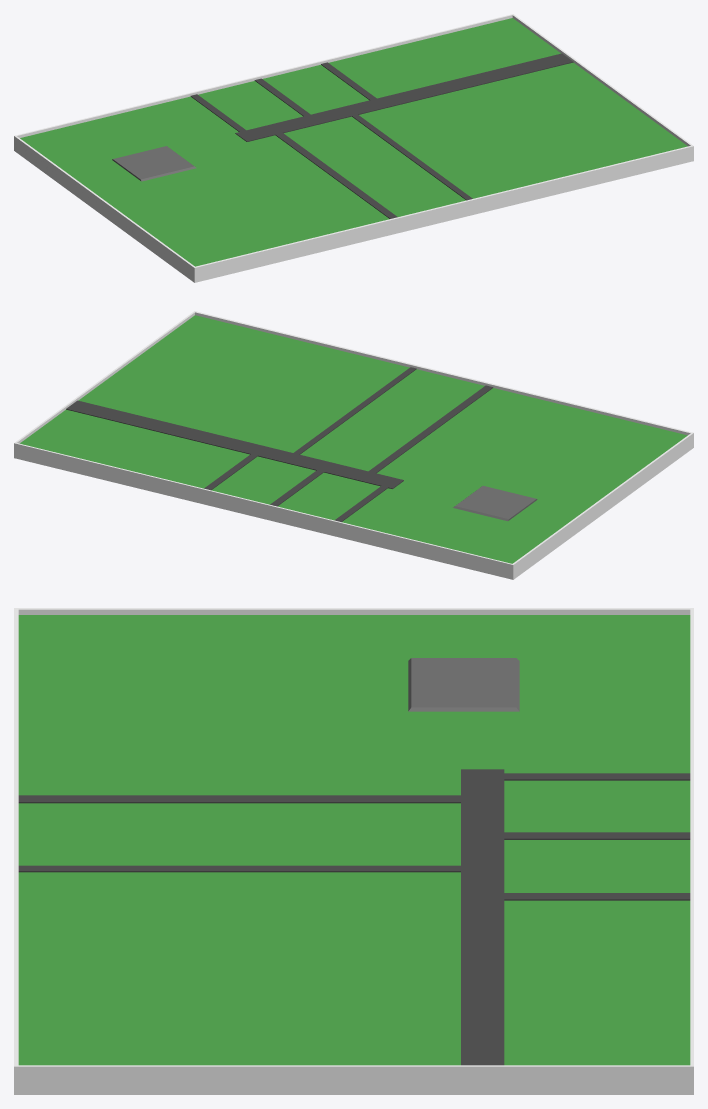
Rendered from road.glb.
3 views of the same model, one above another, from view 1: azimuth 30°, elevation 25°; view 2: azimuth 150°, elevation 25°; view 3: azimuth 270°, elevation 25° (orthographic). The views are drawn at different scales.
Parts seen in each view (by area): view 1: Дорога; view 2: Дорога; view 3: Дорога.
Boxes of the visible parts, x1,y1,x2,y2 form: Дорога: [14, 14, 693, 282]; Дорога: [14, 311, 693, 579]; Дорога: [14, 608, 693, 1094].
Bounding box in the file's own units: 282 × 8.05 × 177.
